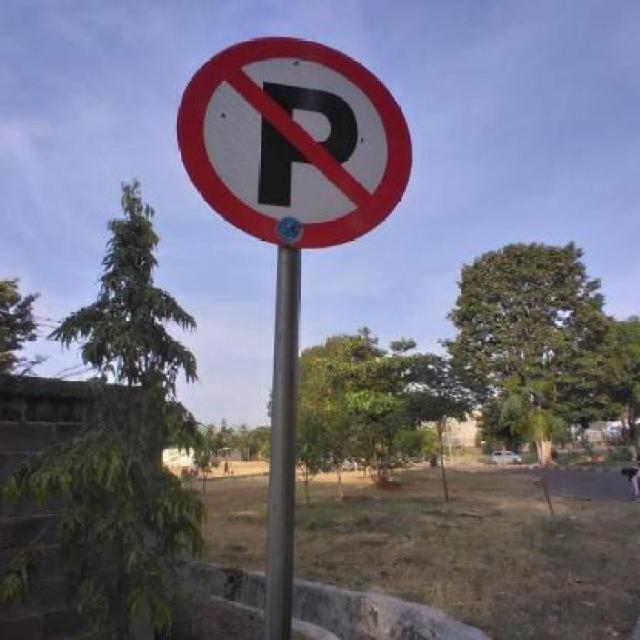no parking: (175, 33, 413, 252)
